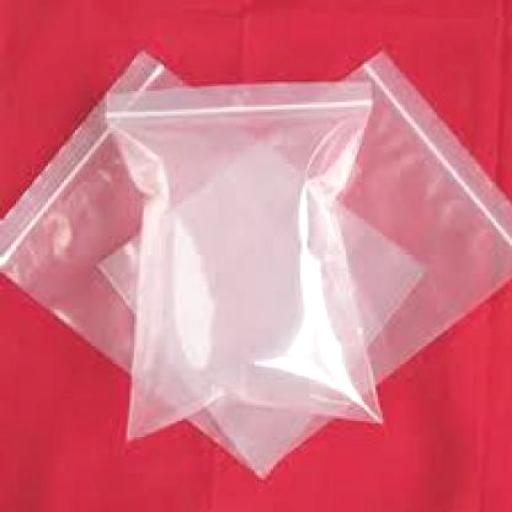plastic: (0, 45, 423, 476), (96, 48, 510, 478), (102, 78, 385, 440)
